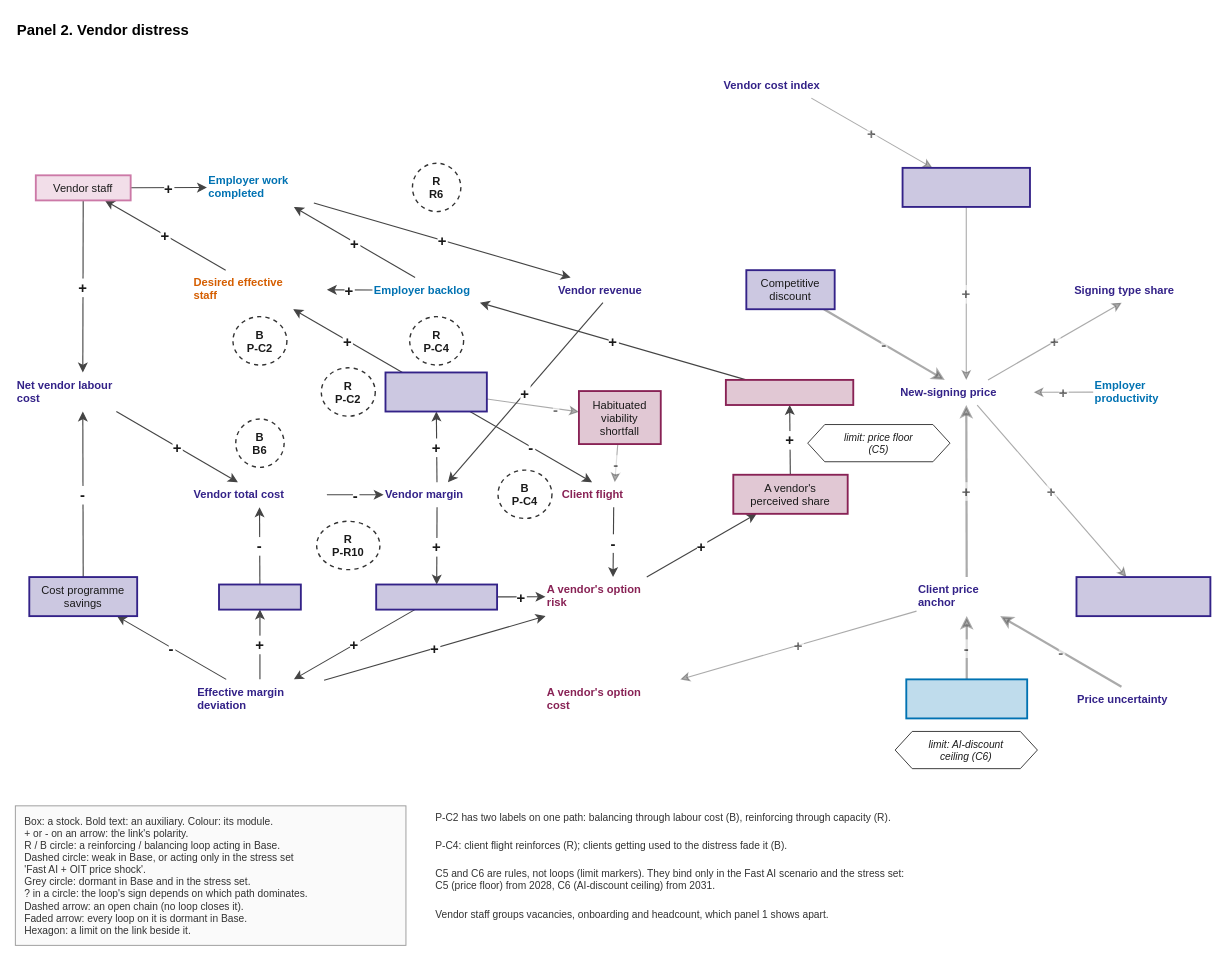
The diagram is 1229 pixels wide and 961 high, and some of its shapes have lost their labels. Each missing label, with the centre of its shape:
"Client-perceived productivity" goes at (x=966, y=698).
"Expected delivery cost" goes at (x=965, y=186).
"Price-weighted new book" goes at (x=1143, y=596).
"Vendor margin signal" goes at (x=435, y=391).
"Vendor viability" goes at (x=436, y=596).
"Vendor work share" goes at (x=789, y=392).
"Wage index" goes at (x=259, y=596).
